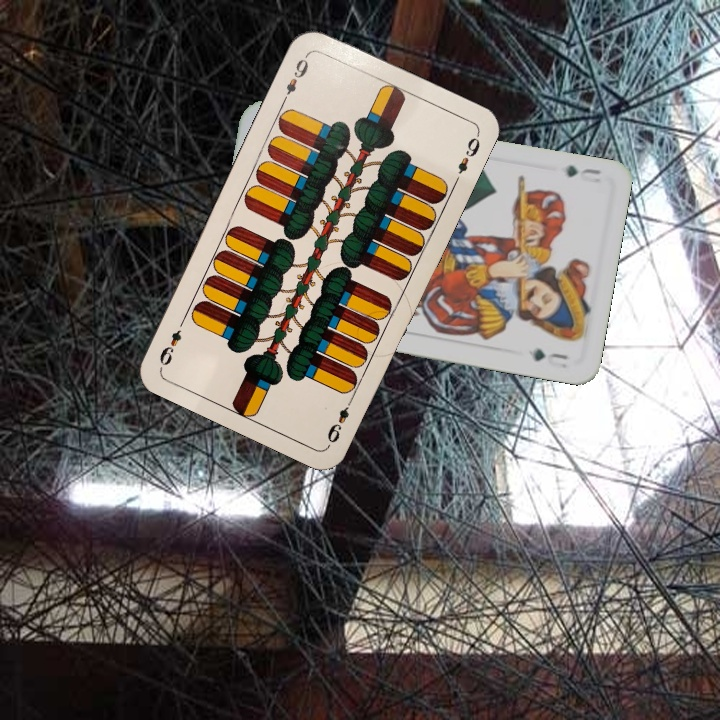E9: (323, 392, 357, 446), (278, 50, 311, 105)
GU: (562, 161, 604, 186)
